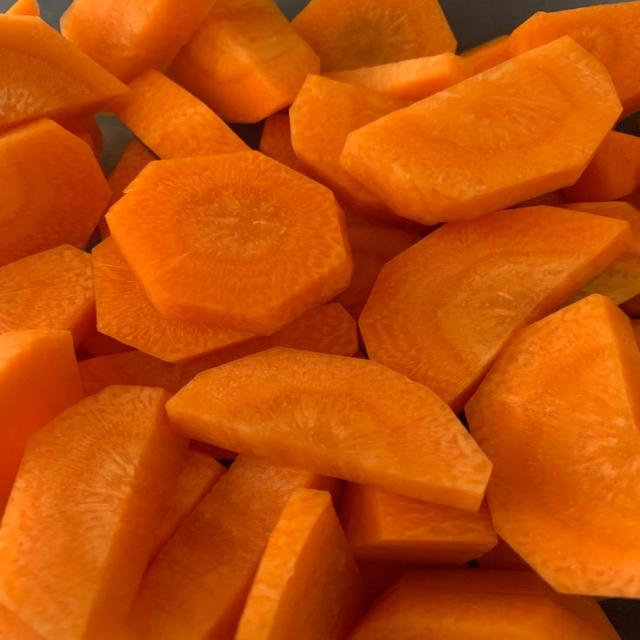carrot: (360, 207, 630, 412), (167, 348, 491, 510), (341, 37, 621, 223), (466, 296, 639, 597), (0, 387, 187, 639), (107, 152, 353, 334), (127, 456, 336, 639), (80, 304, 358, 394), (235, 489, 368, 639), (93, 238, 253, 362), (348, 569, 619, 639), (170, 0, 319, 122), (290, 76, 408, 219), (0, 119, 111, 264), (0, 331, 82, 518), (510, 2, 639, 114), (0, 15, 127, 128), (341, 483, 497, 566), (61, 0, 215, 82), (114, 70, 248, 159), (293, 0, 456, 71), (0, 245, 94, 346), (336, 216, 421, 319), (561, 202, 639, 310), (150, 451, 226, 561), (325, 53, 473, 101), (563, 132, 639, 202), (561, 202, 639, 262), (108, 140, 157, 206), (569, 260, 639, 305), (108, 140, 157, 204), (260, 114, 305, 172), (358, 562, 423, 597), (461, 36, 511, 73), (61, 116, 104, 154), (478, 538, 529, 570), (82, 327, 133, 357), (0, 605, 45, 639), (512, 190, 566, 208), (190, 440, 237, 460), (74, 132, 99, 160), (6, 0, 39, 16), (620, 297, 639, 318), (620, 190, 639, 208), (632, 320, 639, 346)
